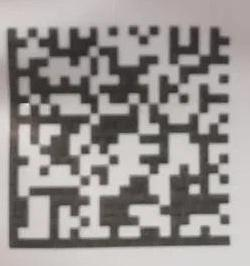datamatrix: (9, 26, 231, 249)
